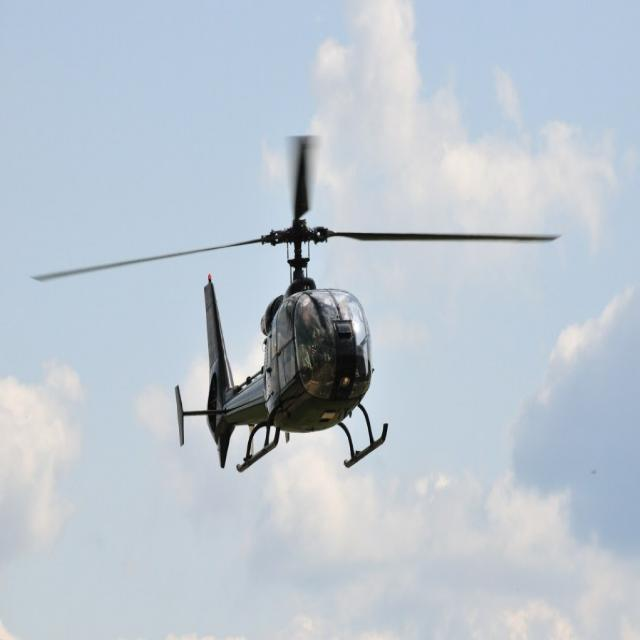helicopter: (53, 140, 558, 467)
